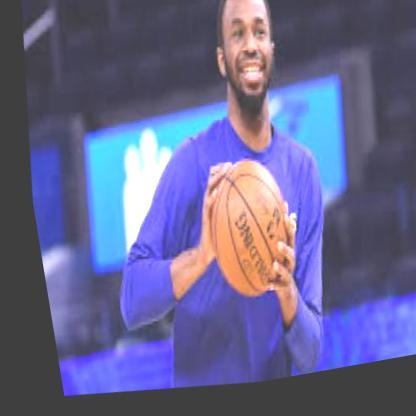basketball: (184, 156, 294, 313)
